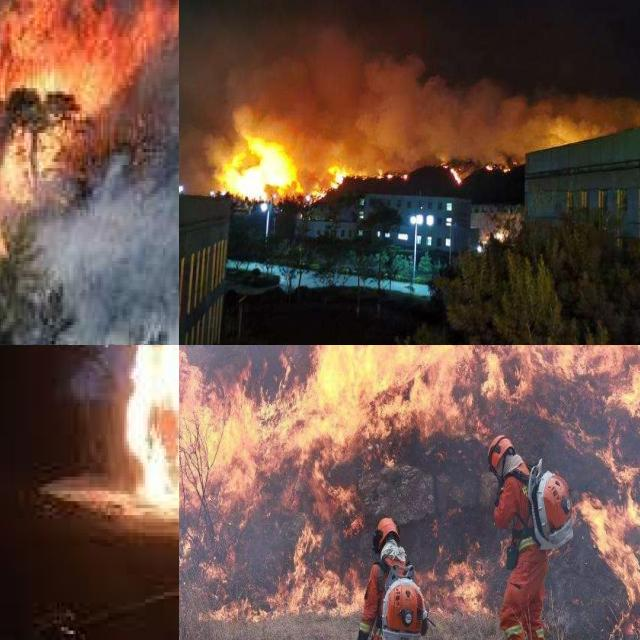fire: (179, 345, 640, 640), (0, 0, 179, 324), (122, 345, 179, 525), (216, 132, 315, 204)
smoke: (179, 21, 640, 189), (0, 85, 179, 345)
